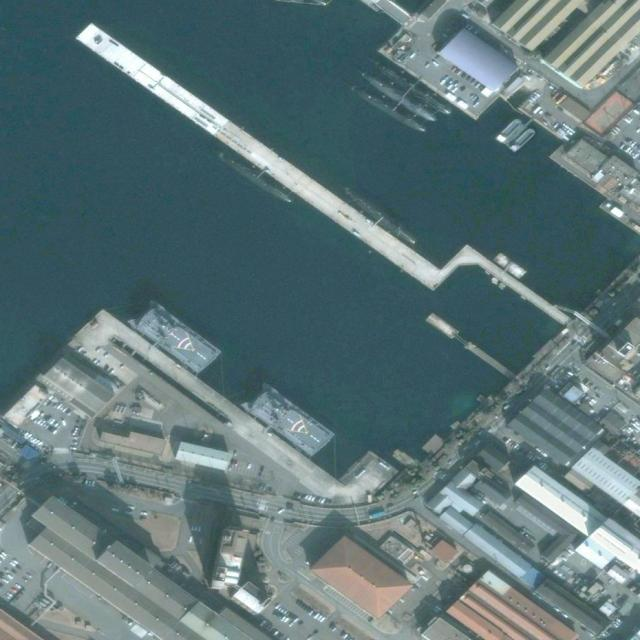Dock: (78, 18, 447, 295)
Submarine: (367, 56, 452, 115), (339, 184, 416, 246), (356, 70, 436, 124), (215, 151, 292, 204), (348, 83, 426, 135)
